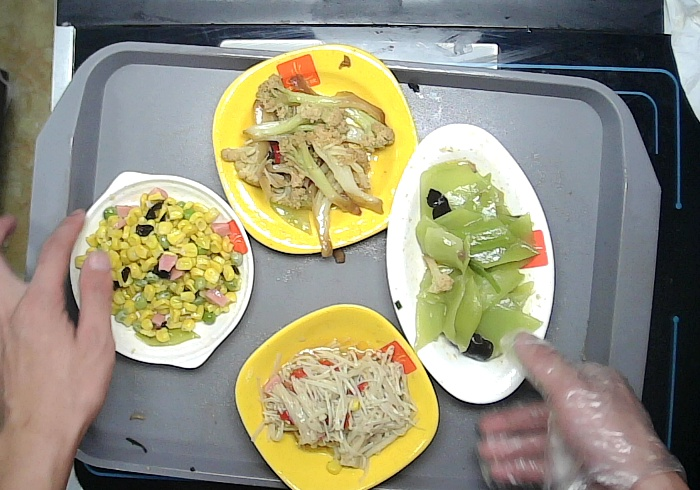SHKJ-Bao_Yu_Pan: (68, 170, 257, 369)
SHKJ-Huang_Se_Cai_Die: (232, 302, 440, 490)
SHKJ-Huang_Se_Si_Fang_Cai_Die: (211, 44, 419, 254)
SHKJ-Yu_Pan: (384, 122, 556, 404)
